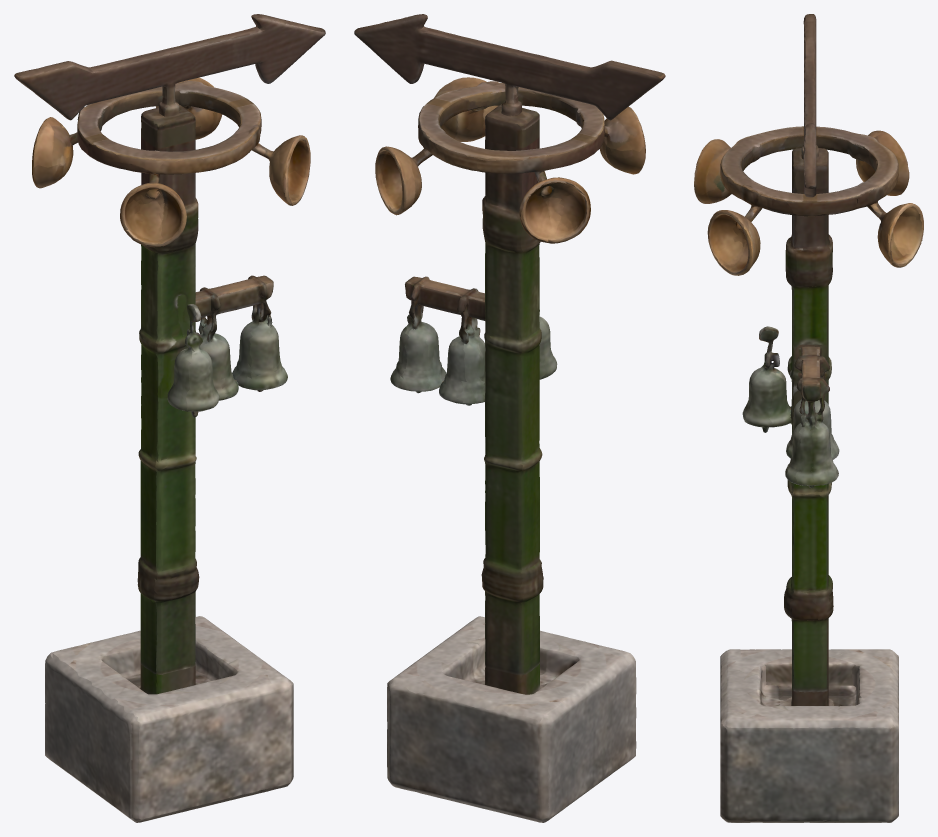
The model's file is demo-wind-instrument.glb.
3 views of the same model, side by side, from view 1: azimuth 30°, elevation 25°; view 2: azimuth 150°, elevation 25°; view 3: azimuth 270°, elevation 25° (orthographic). The views are drawn at different scales.
Parts seen in each view (by area): view 1: geometry_0; view 2: geometry_0; view 3: geometry_0.
Boxes of the visible parts, x1,y1,x2,y2 form: geometry_0: (14,14,325,822); geometry_0: (354,14,665,822); geometry_0: (694,14,923,822).
Bounding box in the file's own units: 0.3725 × 0.85 × 0.2514.
Materials: 1 (1 with a texture image).
